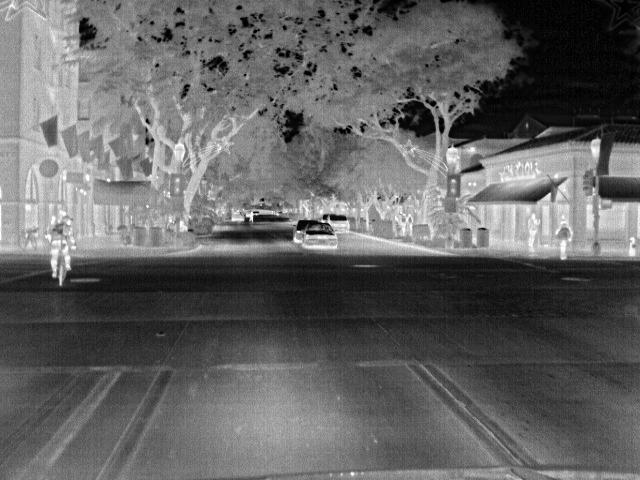car: (305, 220, 336, 250), (329, 213, 352, 232), (295, 220, 312, 240), (229, 210, 247, 222)
person: (46, 208, 76, 275), (556, 218, 574, 262), (526, 212, 542, 247), (398, 211, 411, 236), (405, 212, 417, 234), (248, 209, 256, 222)
